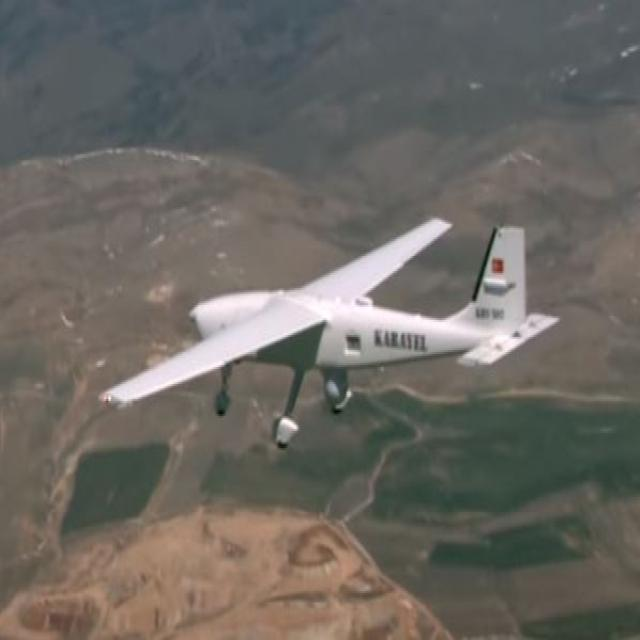iha: (90, 207, 555, 445)
